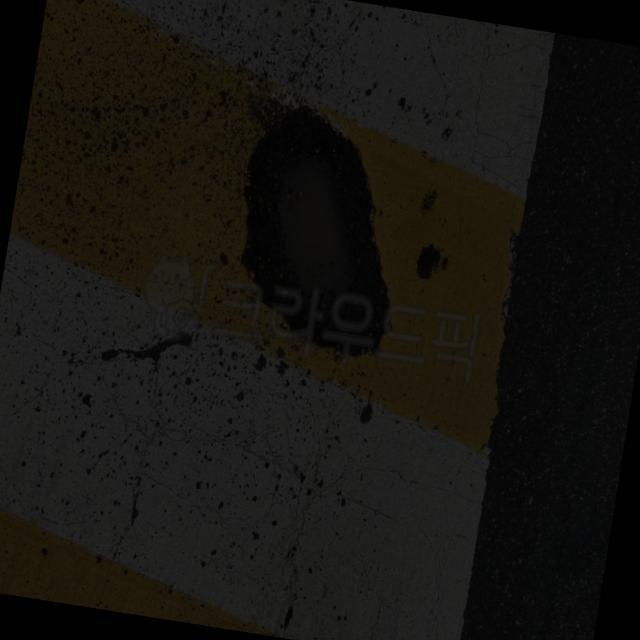pothole: (180, 86, 483, 419)
